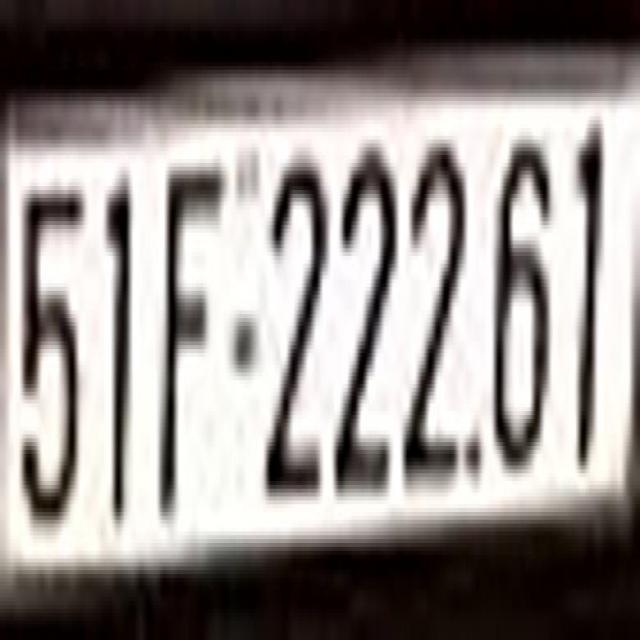1: (570, 113, 606, 473), (103, 156, 130, 532)
2: (330, 140, 396, 497), (401, 128, 464, 496), (264, 147, 324, 512)
5: (16, 159, 85, 528)
6: (494, 116, 553, 492)
F: (154, 128, 228, 520)
